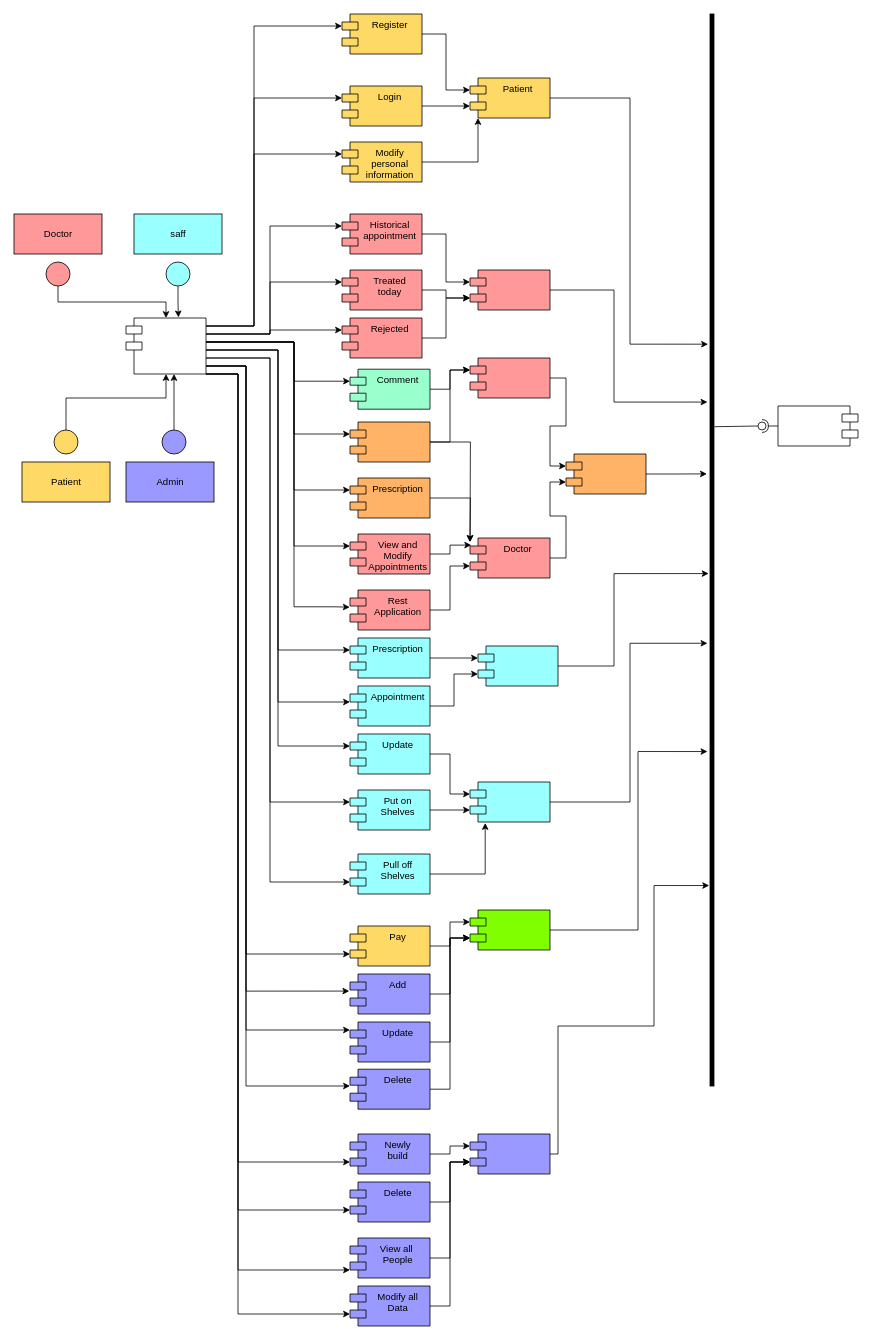
The diagram is 888 pixels wide and 1340 high, and some of its shapes have lost their labels. Here are the shapes that lost their labels. From the top down, the box of each, then its label:
(469, 269, 550, 310): Appointment List
(125, 317, 206, 374): Online Consultation And Medical Subscription
(469, 357, 550, 398): Patient LIst
(349, 421, 430, 462): Consult
(777, 405, 858, 446): Database
(565, 453, 646, 494): Consultation List
(477, 645, 558, 686): Order
(469, 781, 550, 822): List of Medicinal Materials
(469, 909, 550, 950): Subscriptions
(469, 1133, 550, 1174): Account Management
